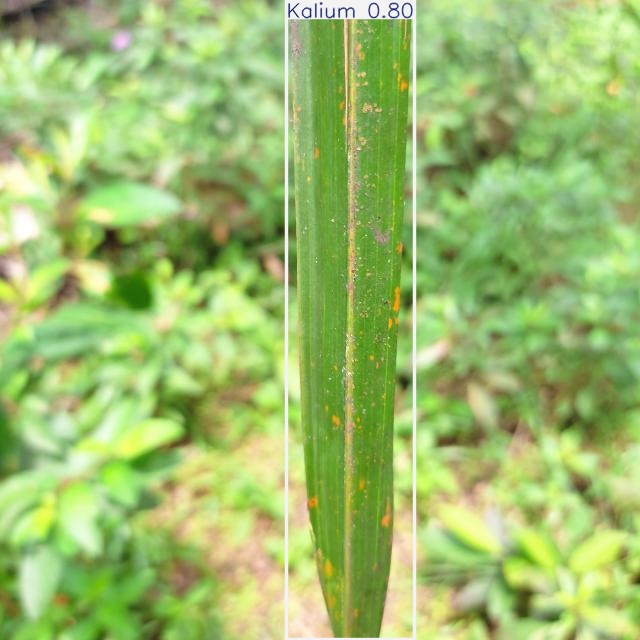Kalium: (287, 0, 414, 640)
